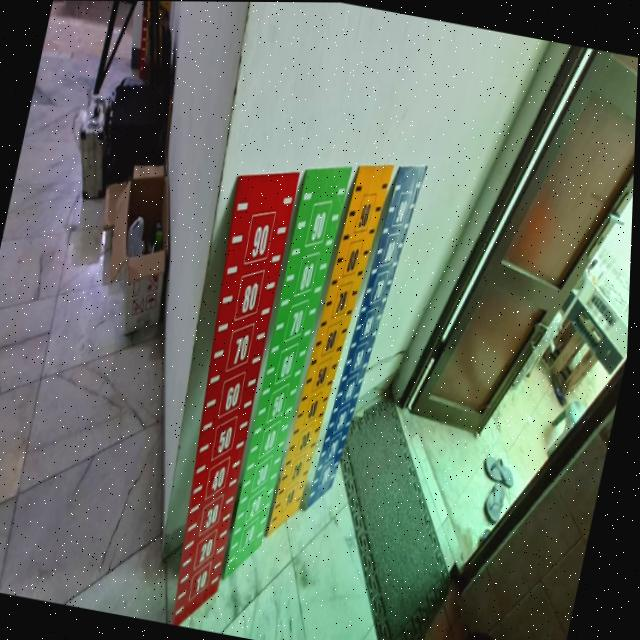water-meter: (128, 144, 312, 632), (214, 143, 357, 590), (259, 127, 401, 568), (299, 142, 434, 527)
